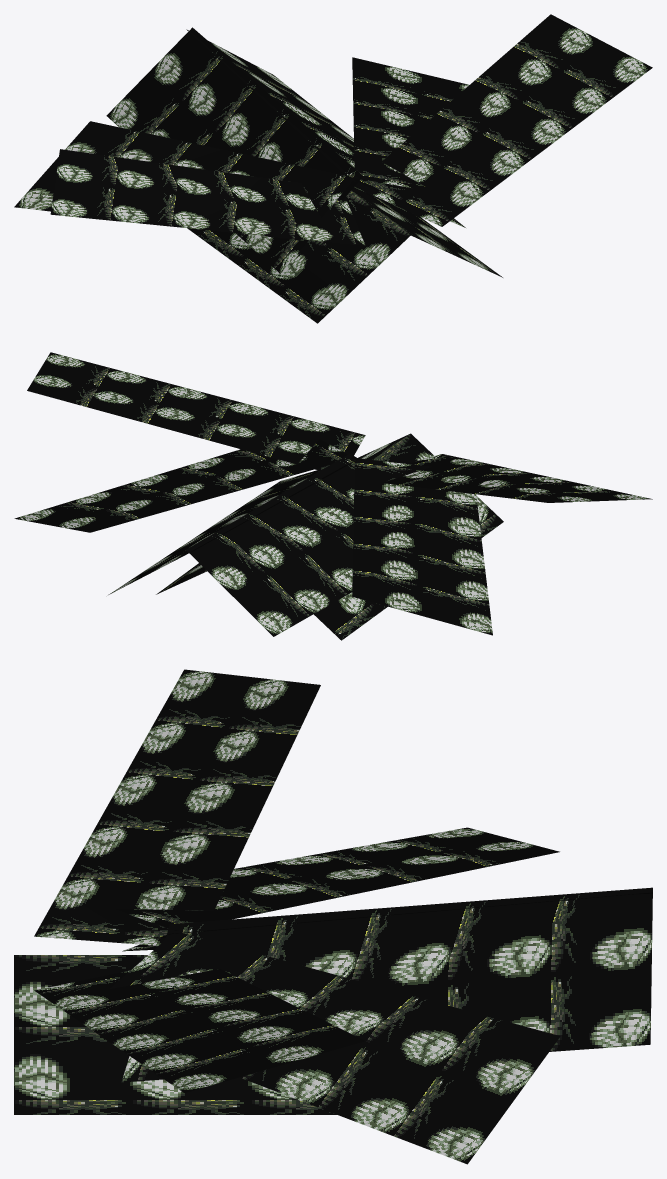
Rendered from 5003musi13.gltf.
The picture shows the model from 3 angles, top to bottom: view 1: azimuth 30°, elevation 25°; view 2: azimuth 150°, elevation 25°; view 3: azimuth 270°, elevation 25°; orthographic projection. The views are drawn at different scales.
Parts seen in each view (by area): view 1: 5003musi13; view 2: 5003musi13; view 3: 5003musi13.
Boxes of the visible parts, x1,y1,x2,y2 form: 5003musi13: (14, 14, 652, 323); 5003musi13: (14, 352, 652, 640); 5003musi13: (14, 669, 652, 1164).
Bounding box in the file's own units: 0.3076 × 0.0652 × 0.196.
Materials: 4 (4 with a texture image).
